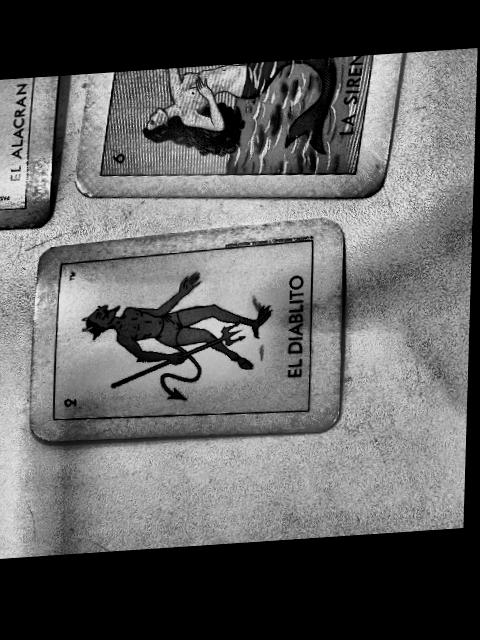El Diablito: (54, 245, 313, 420)
